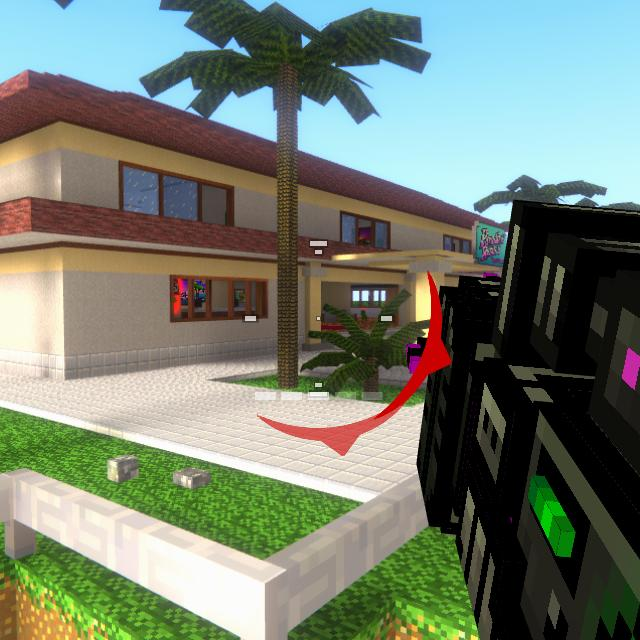Enemy: (174, 279, 181, 306)
